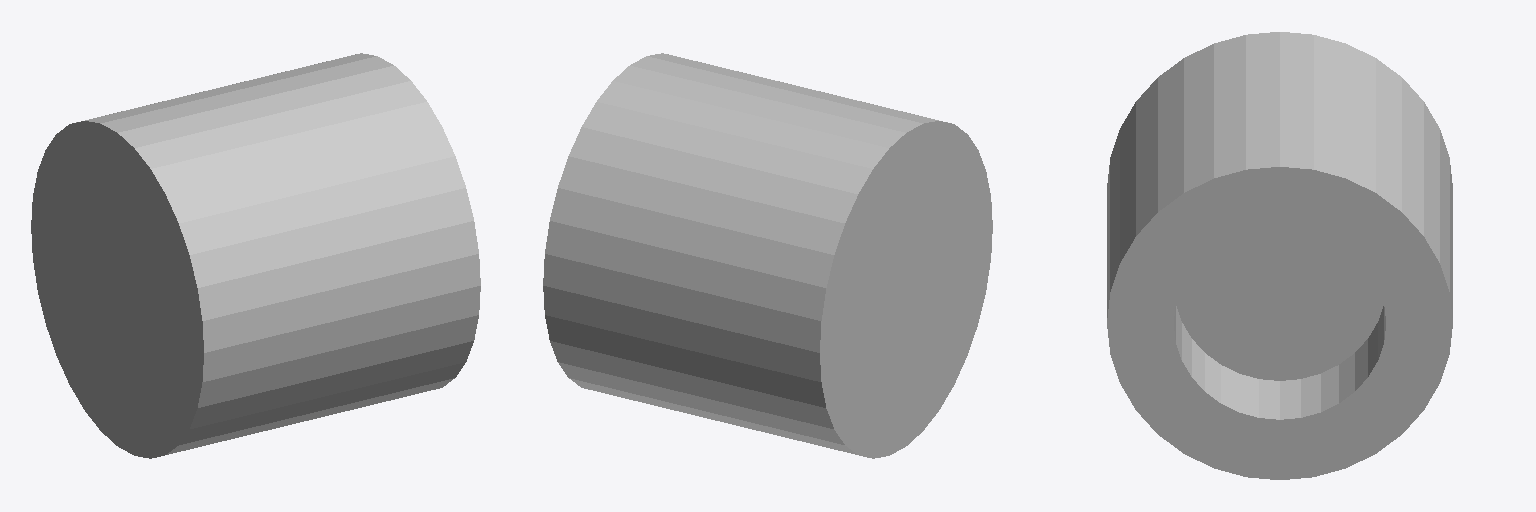
The model's file is wheel.obj.
3 renders of one model, left to right at view 1: azimuth 30°, elevation 25°; view 2: azimuth 150°, elevation 25°; view 3: azimuth 270°, elevation 25°, orthographic.
Parts seen in each view (by area): view 1: Cylinder_Cylinder.001; view 2: Cylinder_Cylinder.001; view 3: Cylinder_Cylinder.001.
Part boxes in pixels (x1,y1,x2,y2): Cylinder_Cylinder.001: (31,53,480,458); Cylinder_Cylinder.001: (543,53,992,458); Cylinder_Cylinder.001: (1107,32,1452,479).
Bounding box in the file's own units: 0.8788 × 0.9519 × 0.9519.